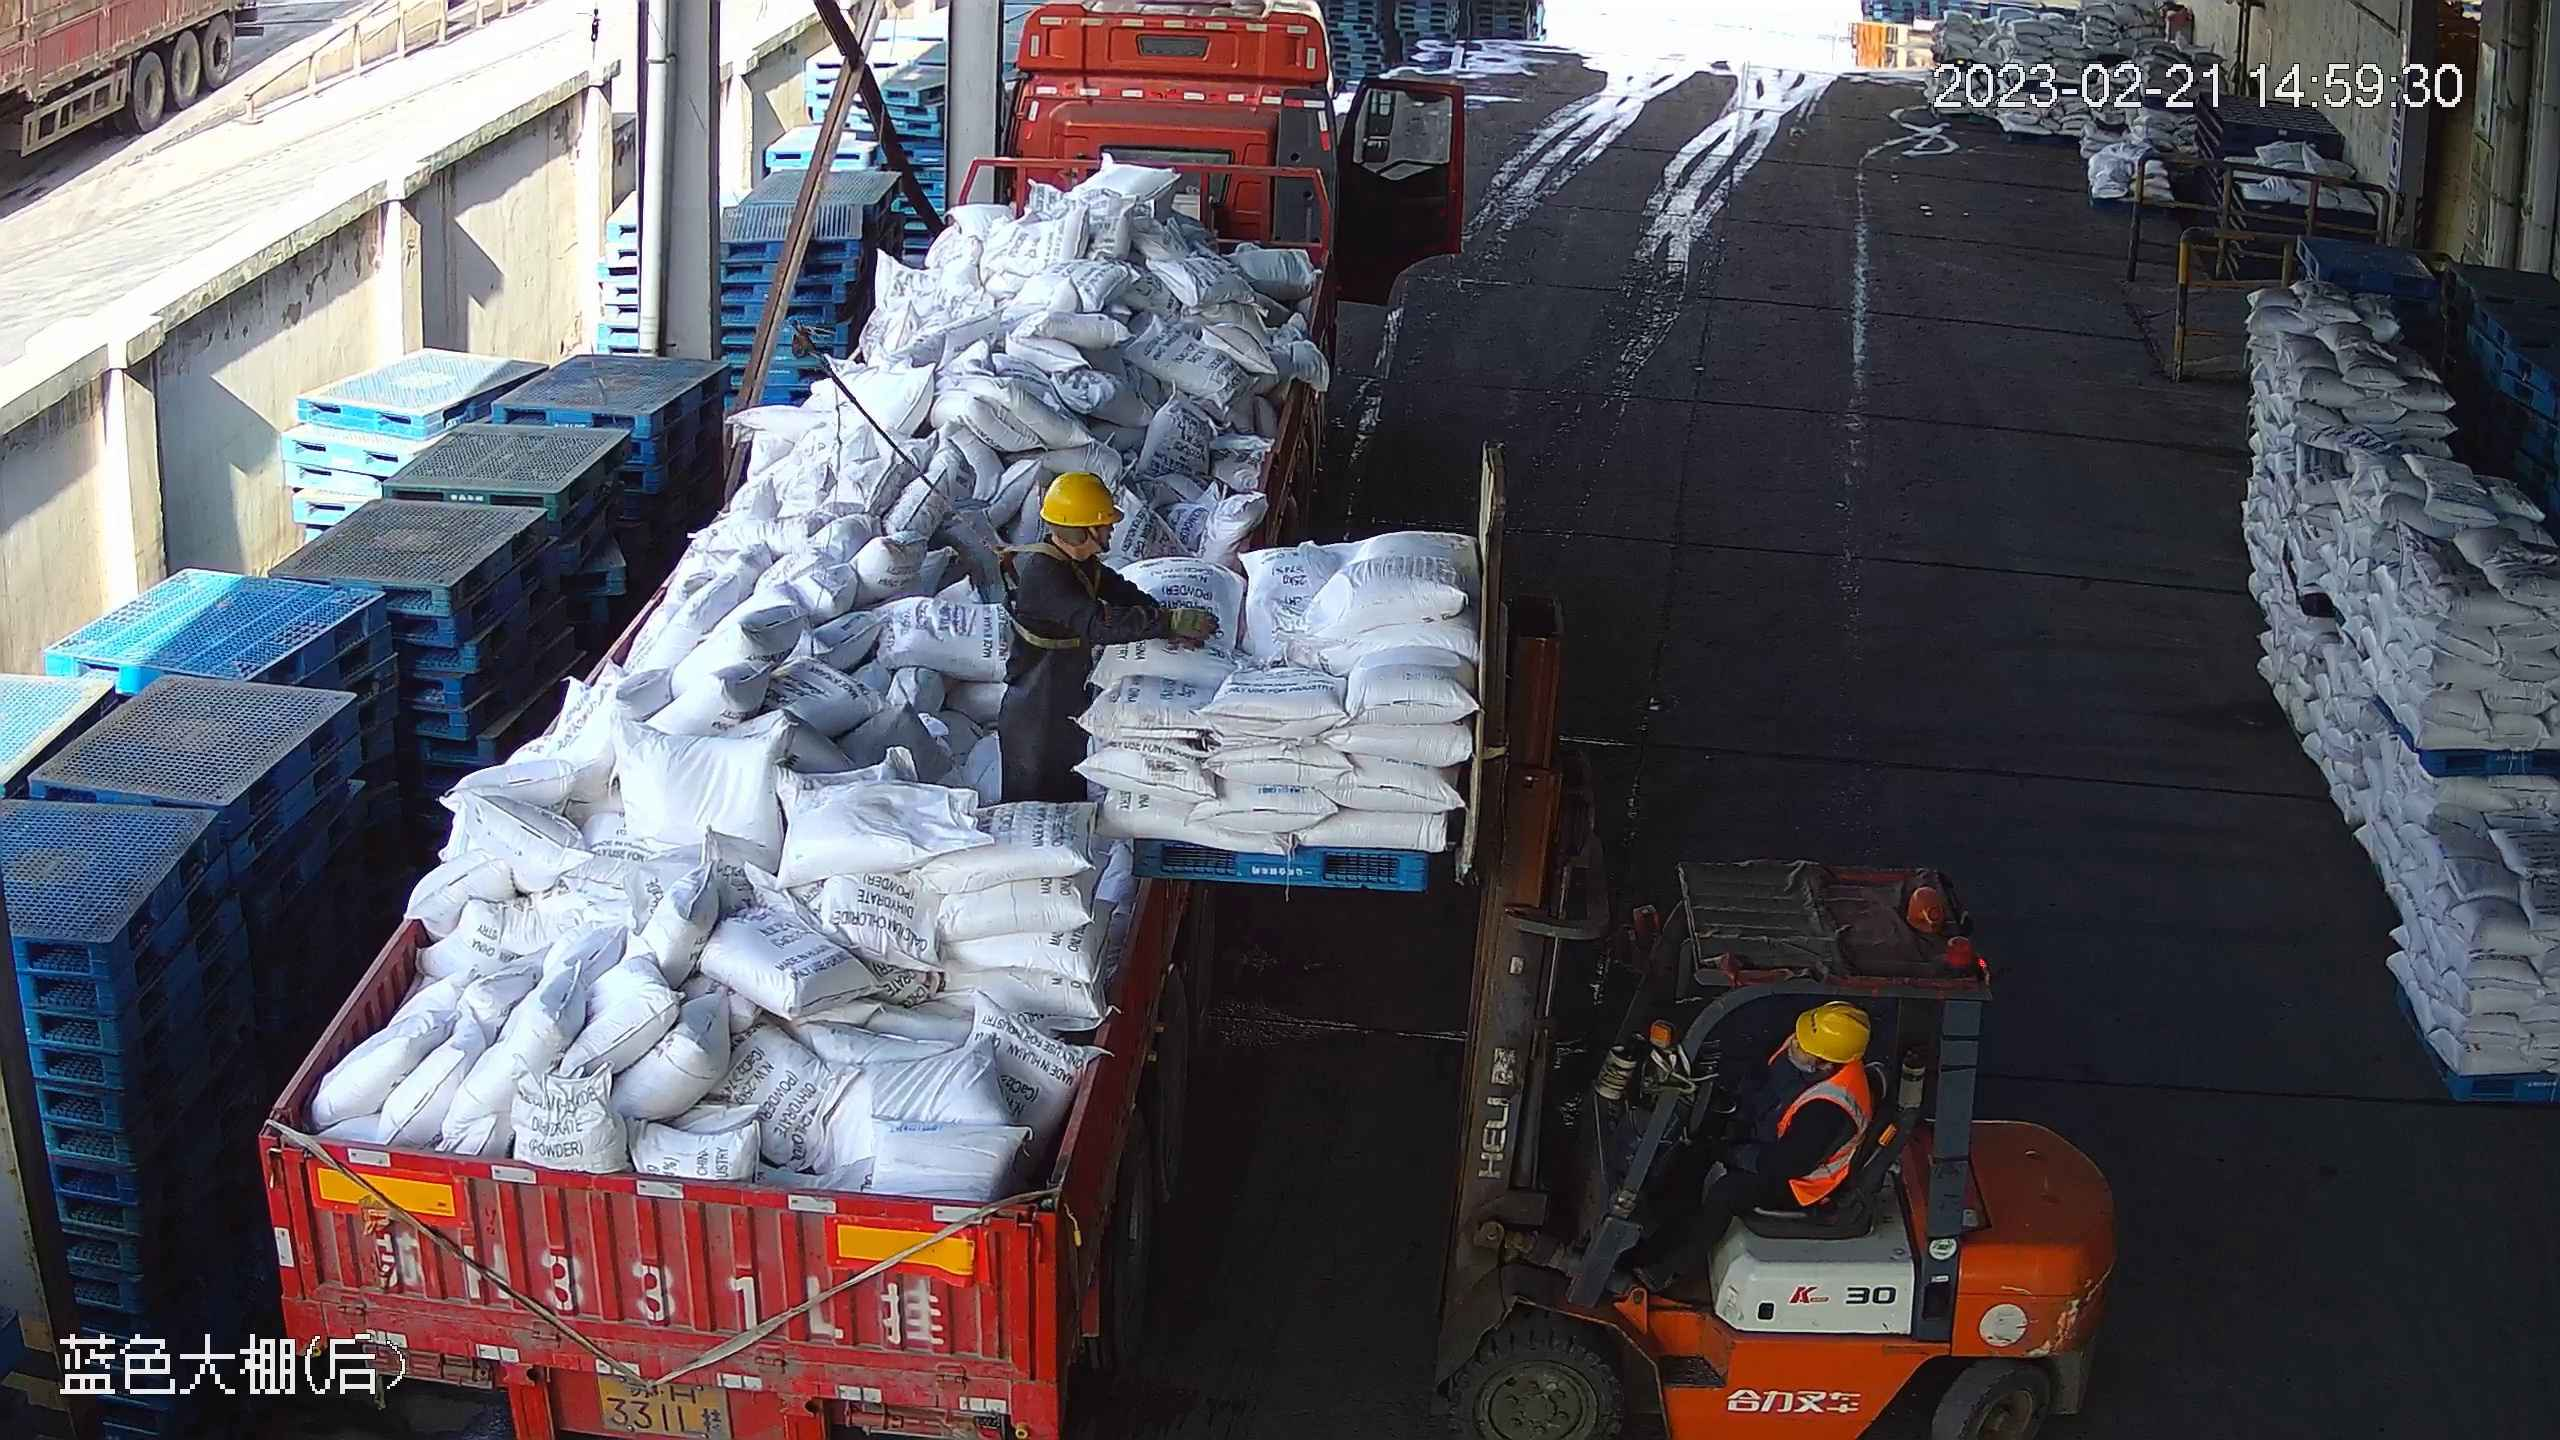belt: (969, 528, 1101, 650)
head: (1758, 1000, 1876, 1144), (1016, 470, 1125, 625)
helmet: (1794, 1000, 1873, 1065), (1039, 471, 1126, 528)
people: (995, 469, 1220, 803), (1631, 999, 1875, 1296)
truck: (259, 3, 1467, 1440)
